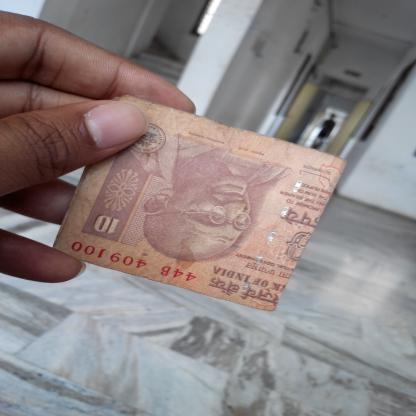Old10Front: (51, 96, 347, 312)
